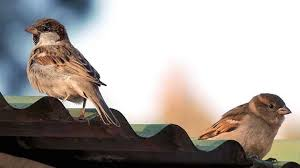hsparrow: (24, 15, 123, 133), (197, 89, 293, 161)
